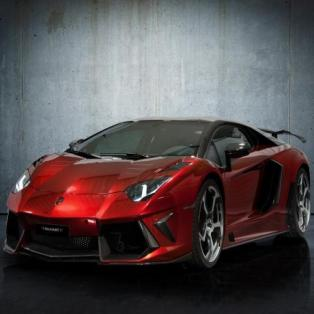Auto: (0, 120, 314, 306)
